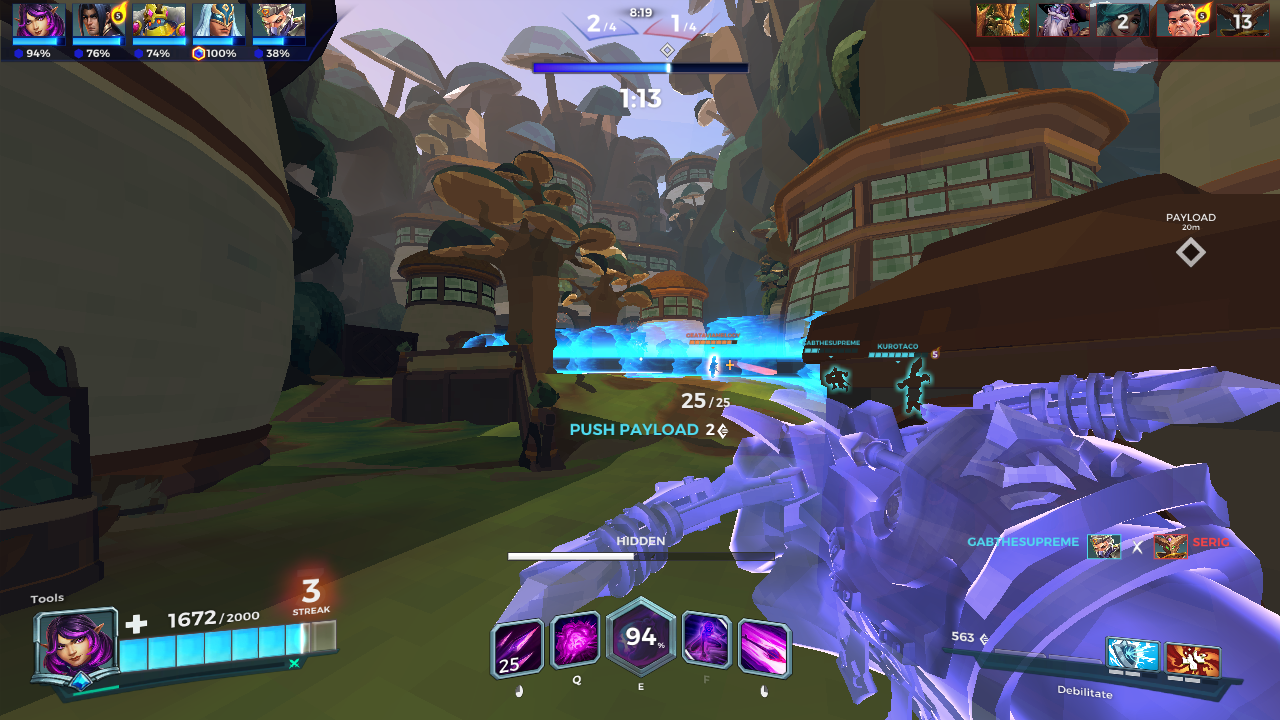model: (707, 349, 722, 378)
